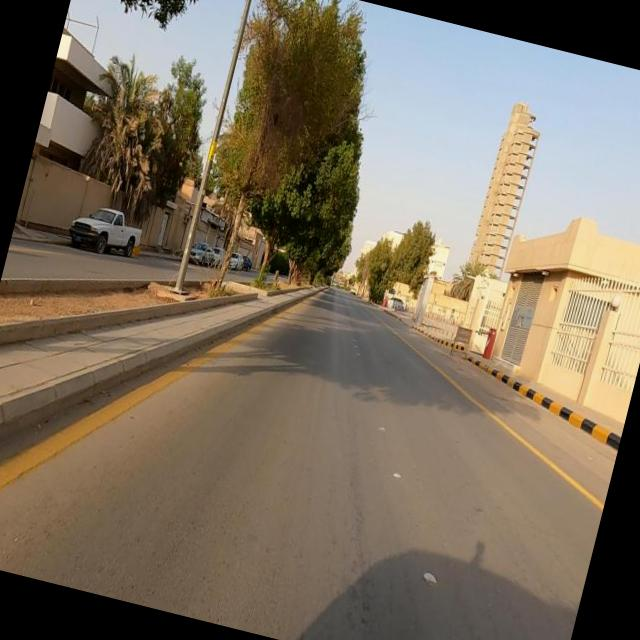debris: (426, 296, 496, 382)
